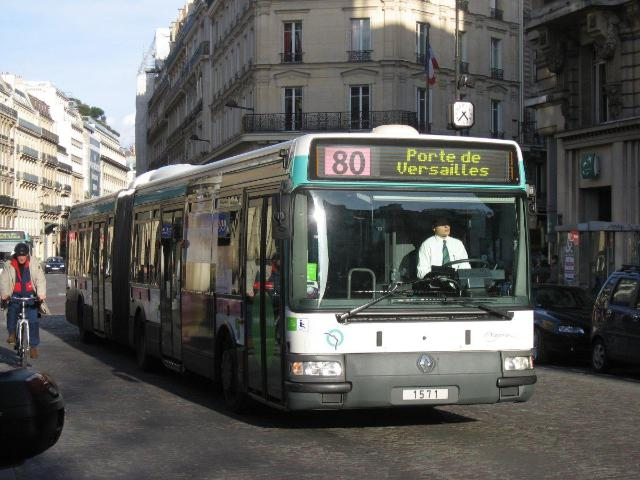bus: (63, 121, 547, 422), (0, 226, 33, 282)
